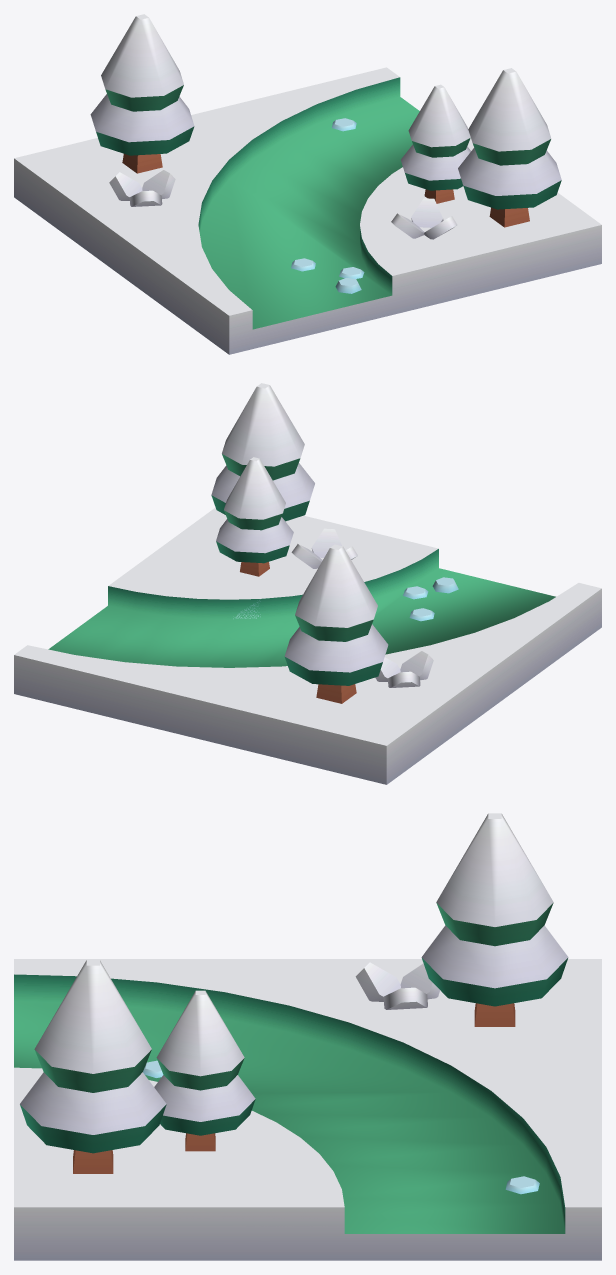
File: kenney-tower-defense-snow-tile-corner-large.glb
3 views of the same model, one above another, from view 1: azimuth 30°, elevation 25°; view 2: azimuth 150°, elevation 25°; view 3: azimuth 270°, elevation 25° (orthographic). The views are drawn at different scales.
Visible parts, largest first — view 1: snow-tile-corner-large; view 2: snow-tile-corner-large; view 3: snow-tile-corner-large.
Part boxes in pixels (x1,y1,x2,y2): snow-tile-corner-large: [14, 14, 601, 354]; snow-tile-corner-large: [14, 383, 601, 784]; snow-tile-corner-large: [14, 813, 601, 1260].
Bounding box in the file's own units: 2 × 0.9601 × 2.
1 material, 1 textured.
